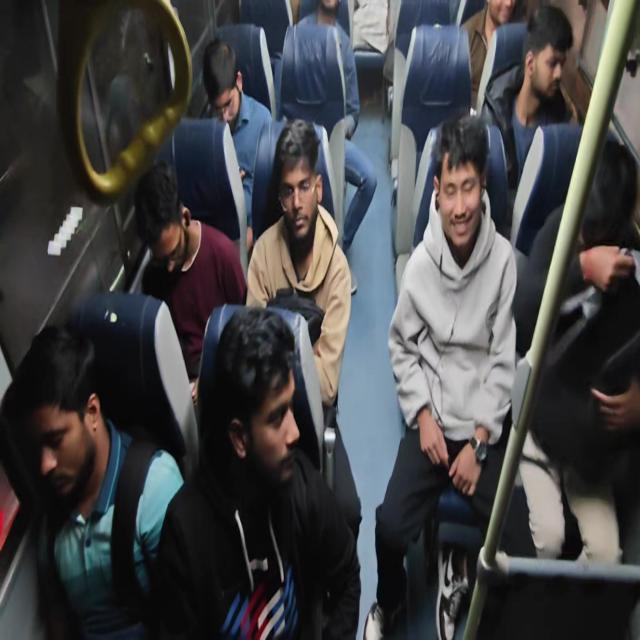person: (363, 112, 518, 638), (154, 306, 362, 638), (1, 322, 185, 638), (514, 134, 639, 565), (245, 117, 362, 546), (134, 158, 248, 400), (412, 0, 519, 249), (289, 0, 377, 293), (480, 5, 578, 189), (201, 37, 274, 245), (458, 0, 516, 113)
